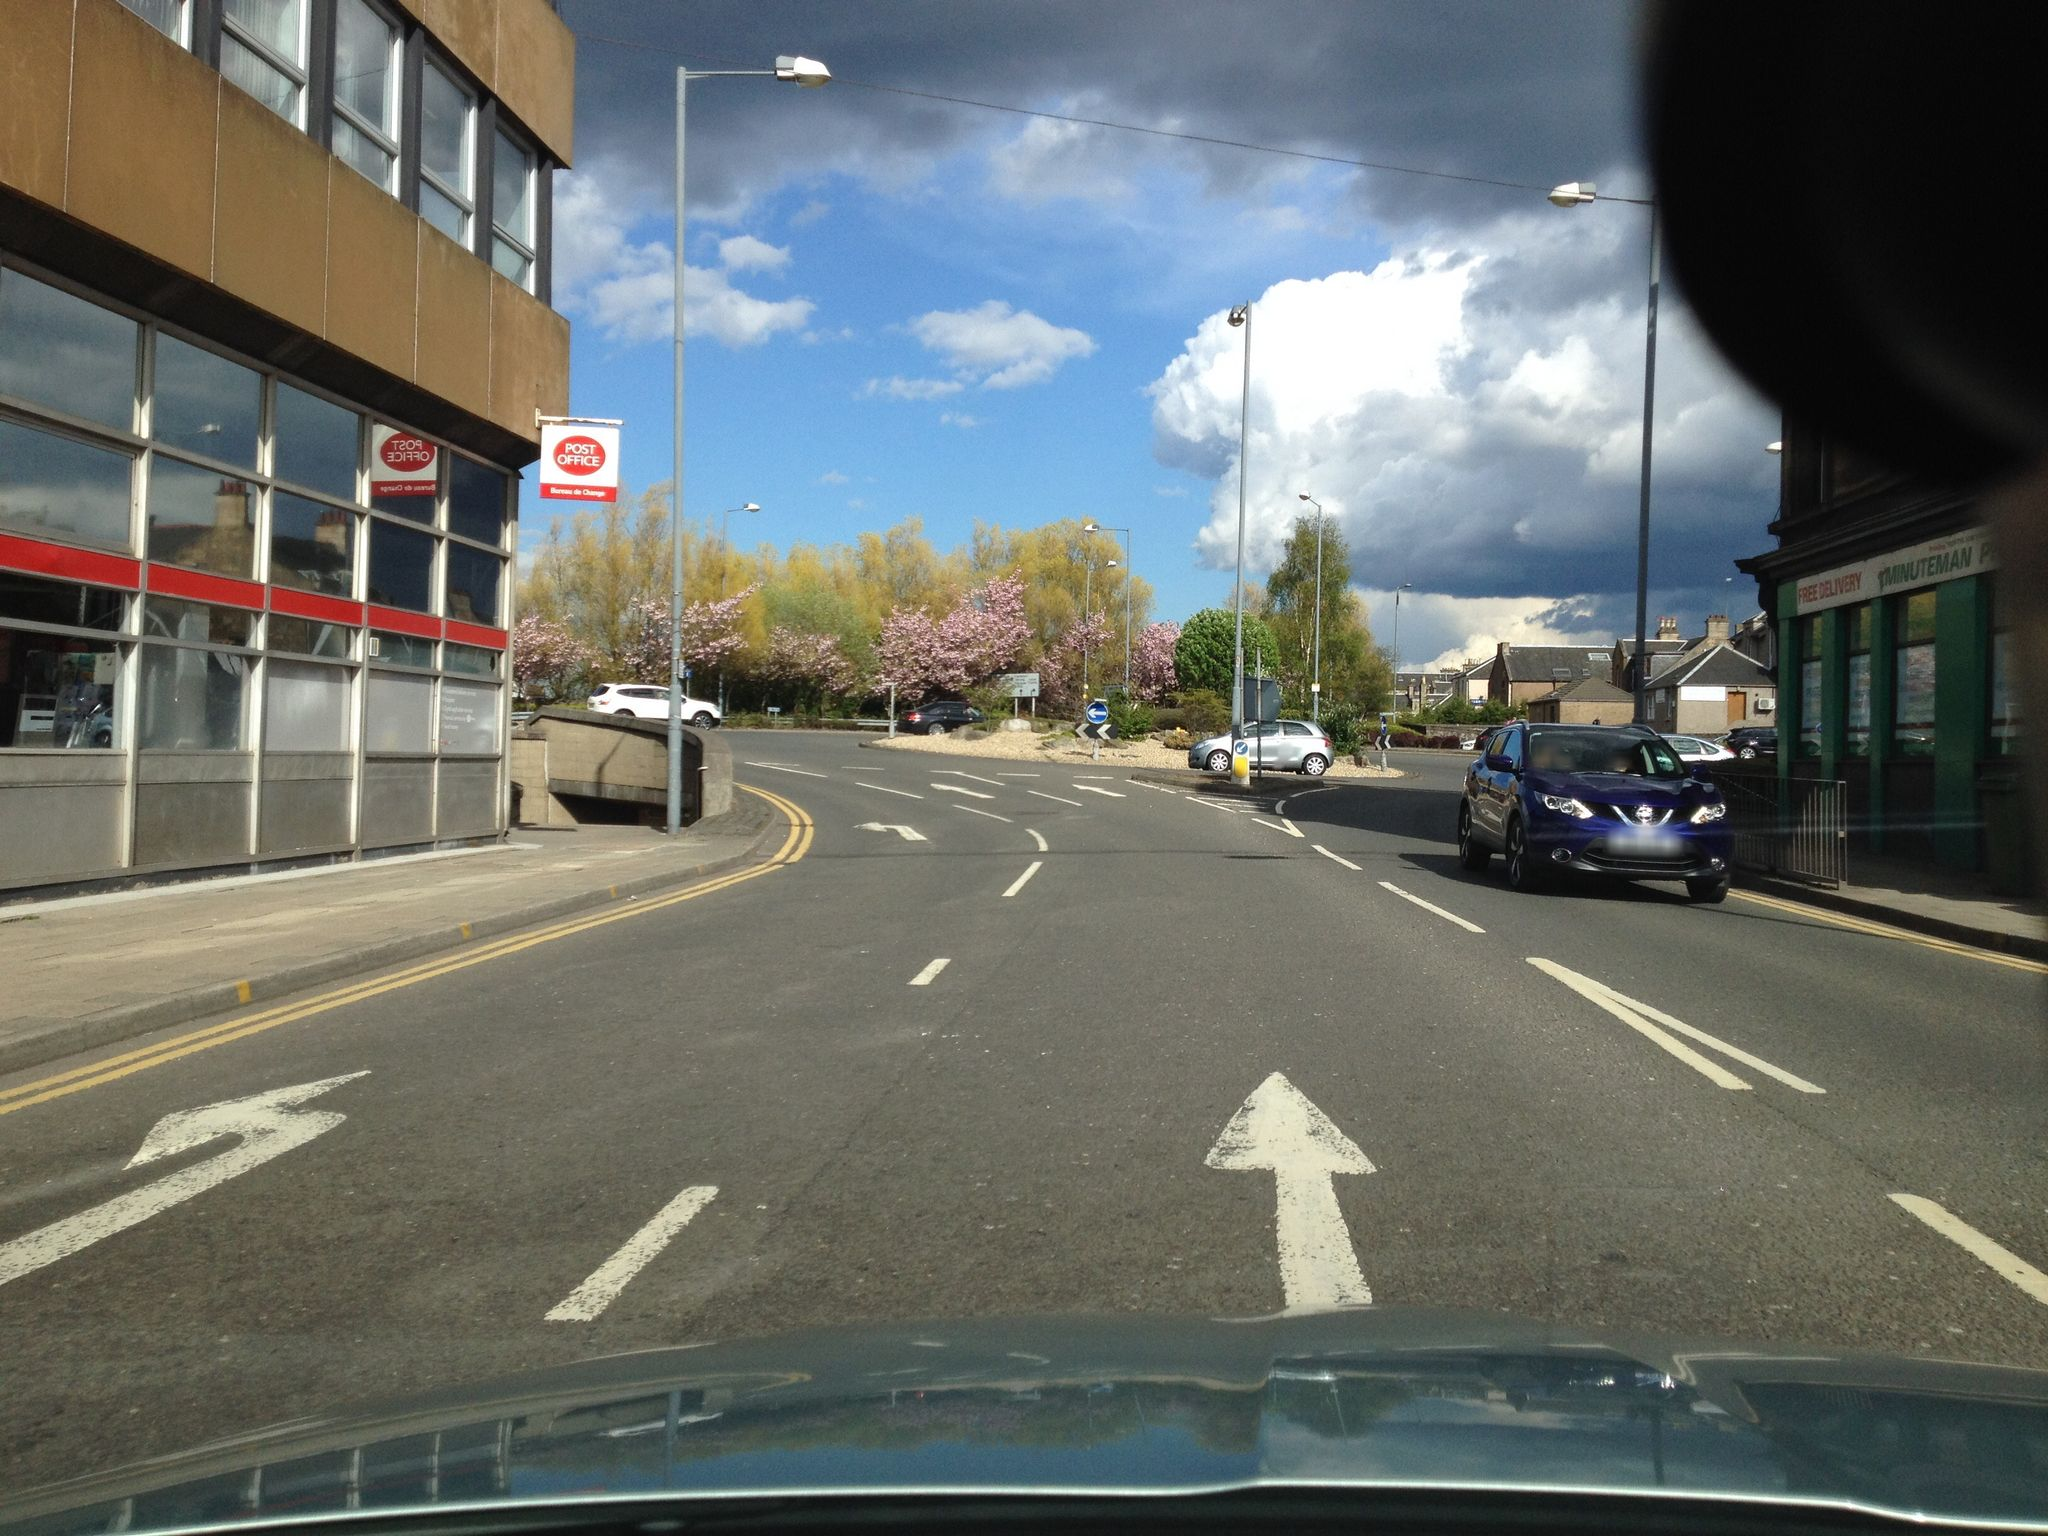car: (1459, 716, 1732, 900), (1187, 718, 1334, 774), (585, 681, 721, 731), (1643, 731, 1737, 766), (898, 700, 984, 736), (1725, 724, 1780, 758)
